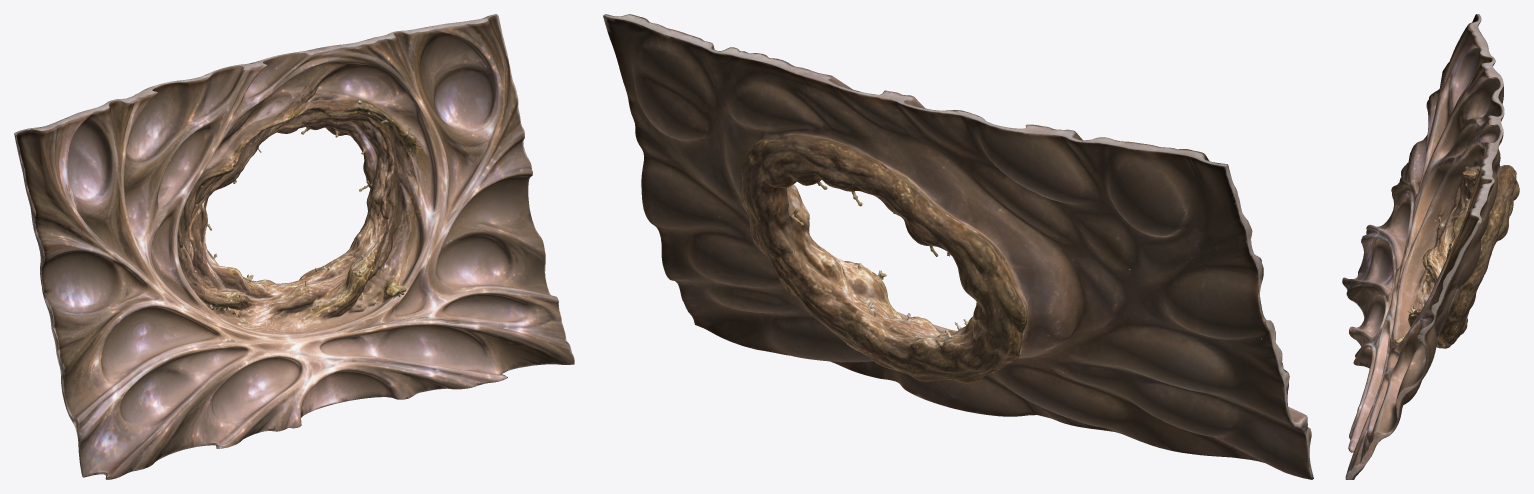
The model's file is bark-exit.glb.
The picture shows the model from 3 angles, left to right: view 1: azimuth 30°, elevation 25°; view 2: azimuth 150°, elevation 25°; view 3: azimuth 270°, elevation 25°; orthographic projection. The views are drawn at different scales.
Visible parts, largest first — view 1: tripo_node_a6806caf-9335-4977-af81-233cdc39a096; view 2: tripo_node_a6806caf-9335-4977-af81-233cdc39a096; view 3: tripo_node_a6806caf-9335-4977-af81-233cdc39a096.
Part boxes in pixels (x1,y1,x2,y2): tripo_node_a6806caf-9335-4977-af81-233cdc39a096: (14, 14, 574, 479); tripo_node_a6806caf-9335-4977-af81-233cdc39a096: (603, 14, 1313, 479); tripo_node_a6806caf-9335-4977-af81-233cdc39a096: (1342, 14, 1519, 479).
Size of the model in its own units: 0.9797 by 0.5706 by 0.3532.
Materials: 1 (1 with a texture image).
